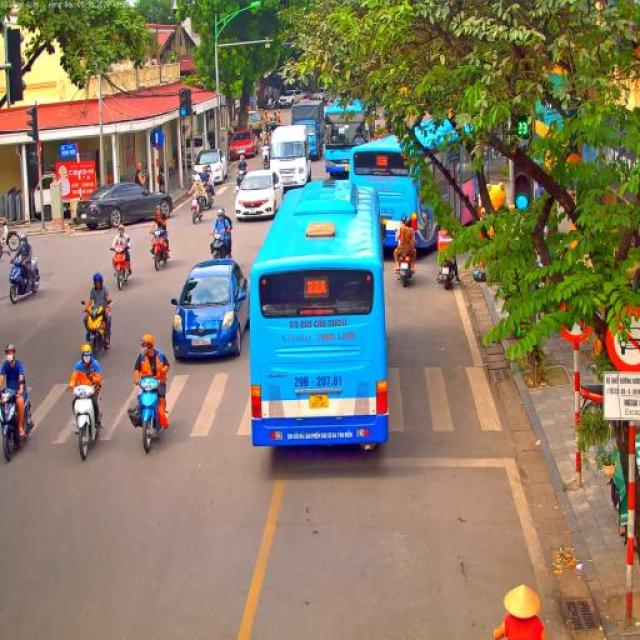bus: (250, 180, 390, 455), (349, 120, 491, 256), (322, 98, 368, 178), (269, 125, 312, 191)
car: (170, 259, 250, 361), (76, 181, 173, 230), (234, 168, 284, 222), (194, 149, 228, 185), (229, 130, 256, 160), (278, 89, 303, 109), (311, 91, 334, 104)
motorcycle: (127, 376, 165, 454), (67, 382, 104, 462), (0, 385, 35, 463), (81, 298, 117, 360), (8, 254, 41, 304), (110, 244, 130, 290), (150, 229, 171, 271), (0, 216, 20, 259), (398, 251, 417, 288), (579, 383, 603, 412), (209, 230, 232, 260), (437, 255, 455, 290), (190, 191, 206, 225), (203, 181, 214, 208), (234, 168, 247, 190), (262, 146, 270, 170)
truck: (292, 100, 326, 159), (246, 110, 264, 140)
